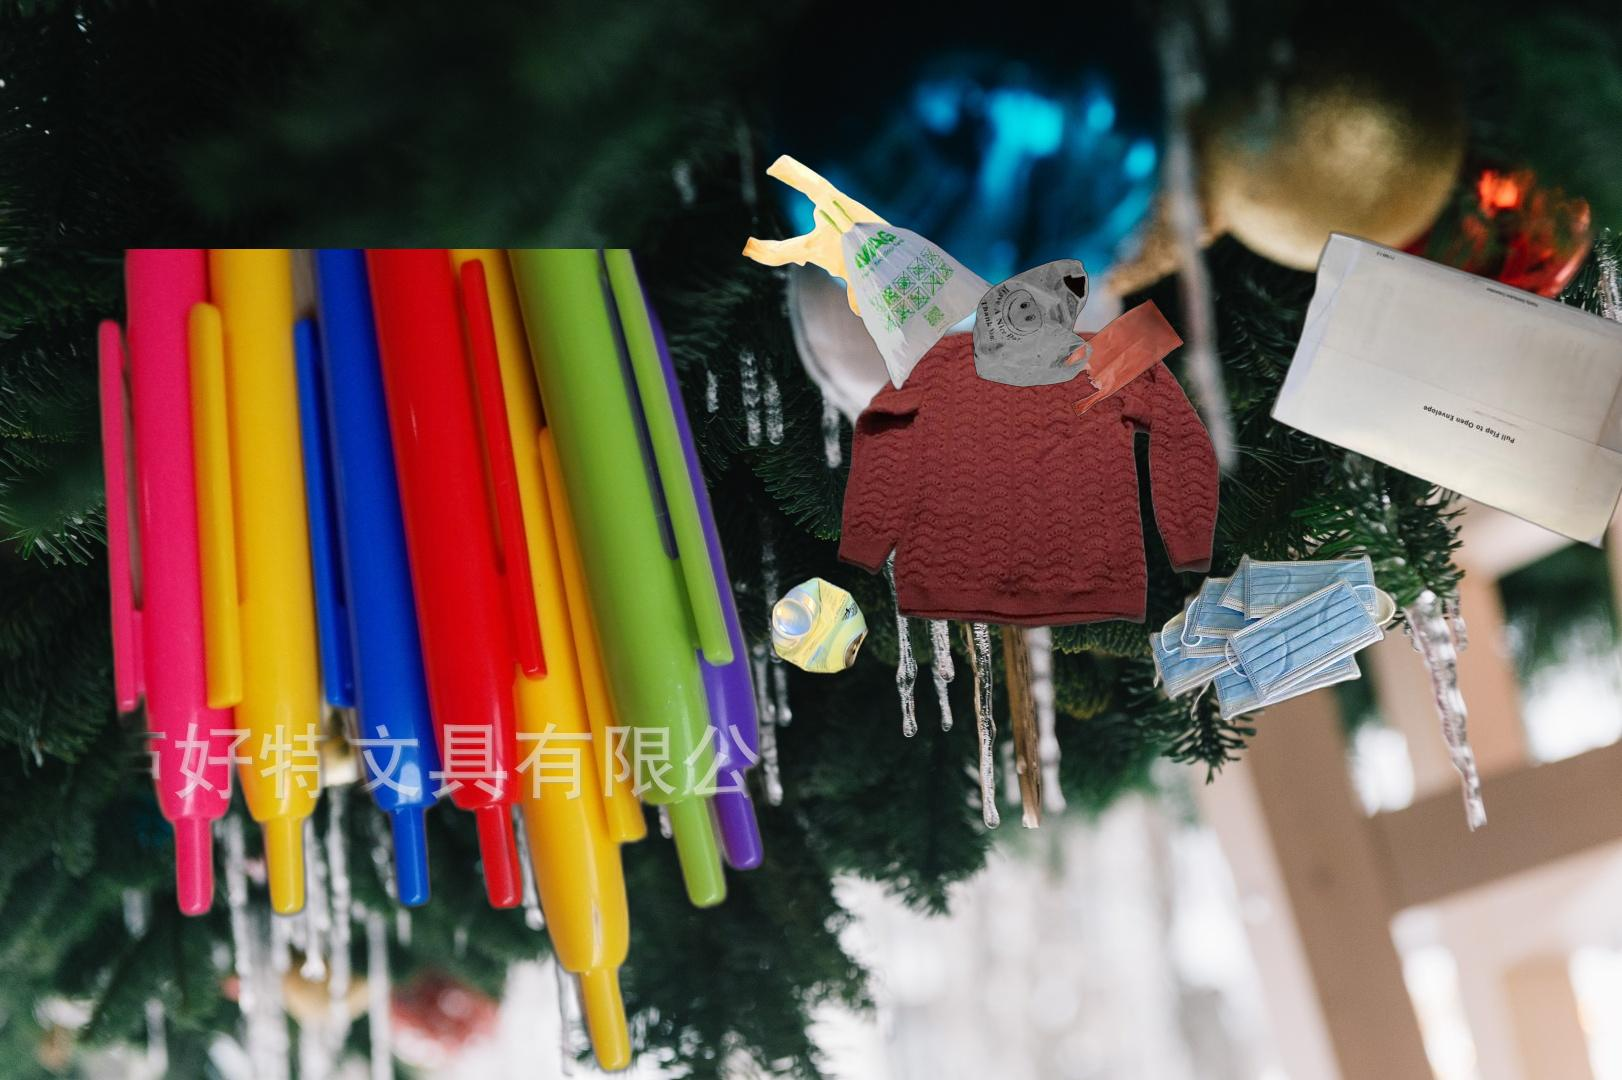clothes: (834, 315, 1224, 633)
metal-cans: (766, 571, 872, 680)
paper: (1264, 229, 1622, 554)
penholder: (13, 250, 791, 1080)
plastic-bag: (741, 152, 1007, 393), (971, 256, 1186, 418)
plastic-bottles: (1444, 1074, 1622, 1080)
trash: (1142, 552, 1403, 720)
